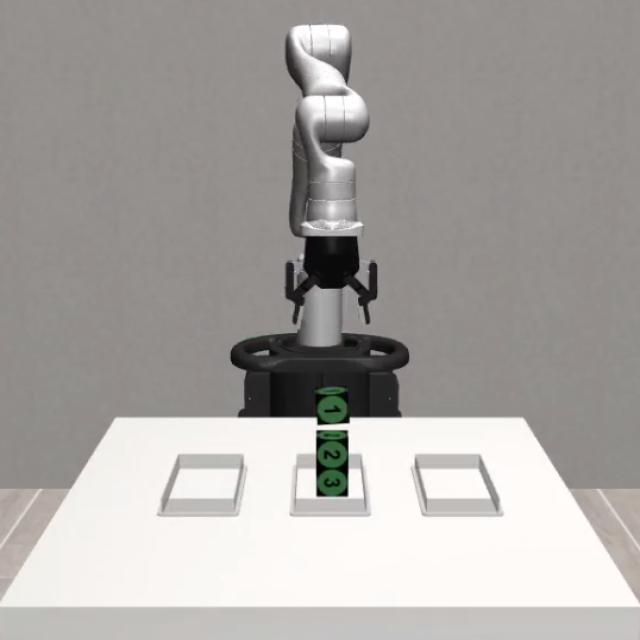cube1: (314, 388, 352, 425)
cube2: (316, 430, 347, 466)
cube3: (318, 466, 348, 496)
